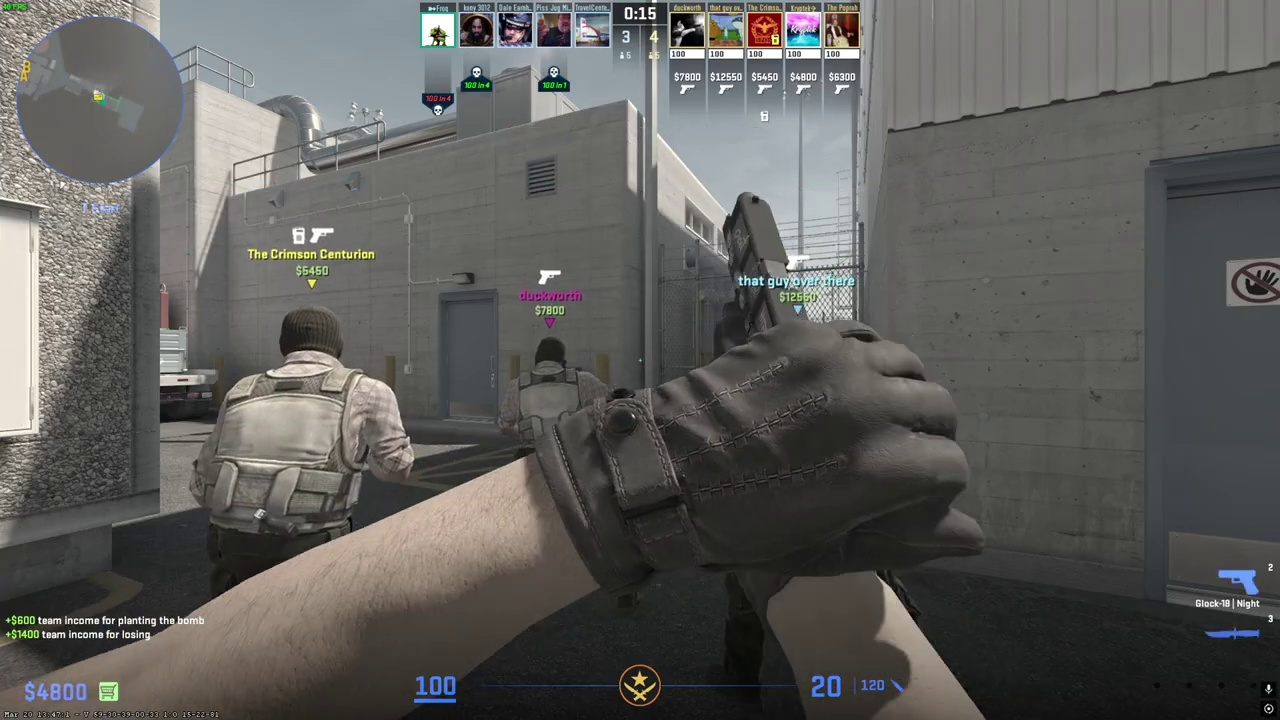Terrorist: (197, 305, 397, 590), (508, 337, 598, 456)
